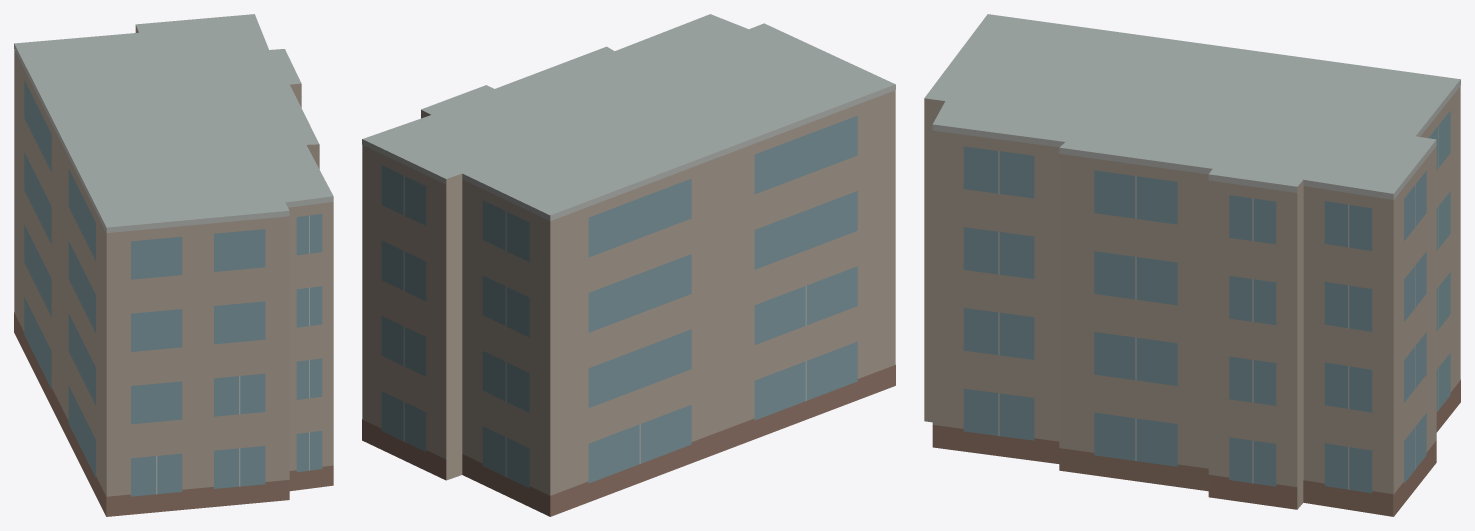
File: survey-upis-32656005.glb
3 renders of one model, left to right at view 1: azimuth 30°, elevation 25°; view 2: azimuth 150°, elevation 25°; view 3: azimuth 270°, elevation 25°, orthographic. The views are drawn at different scales.
Visible parts, largest first — view 1: survey-upis-32656005.tmp; view 2: survey-upis-32656005.tmp; view 3: survey-upis-32656005.tmp.
Part boxes in pixels (box(x1,y1,x2,y2)): survey-upis-32656005.tmp: box(14, 14, 333, 516); survey-upis-32656005.tmp: box(362, 14, 895, 516); survey-upis-32656005.tmp: box(924, 14, 1460, 516).
Size of the model in its own units: 15.3 by 12.8 by 19.29.
